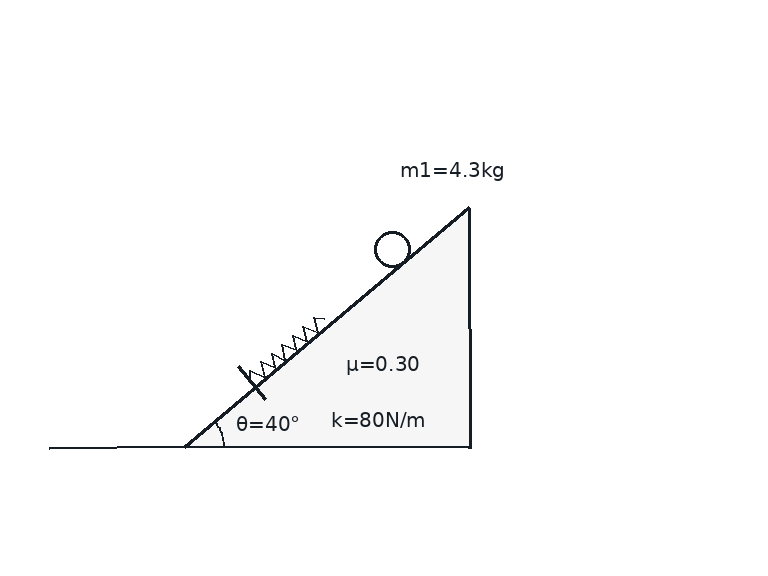ball: (372, 229, 412, 269)
ramp: (182, 206, 471, 449)
spring: (247, 315, 326, 382)
